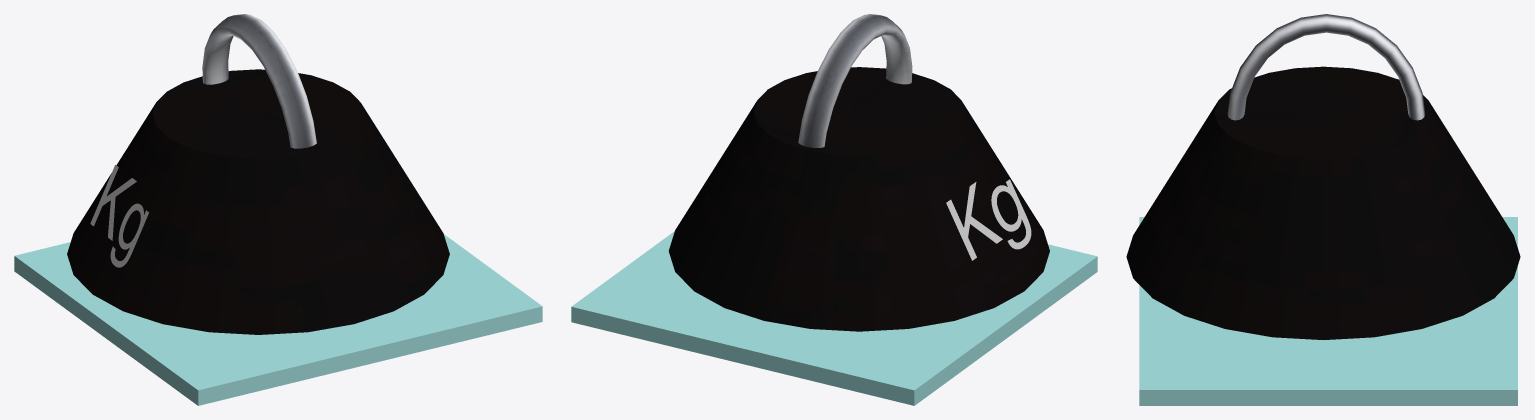
Rendered from kilo.DAE.
3 renders of one model, left to right at view 1: azimuth 30°, elevation 25°; view 2: azimuth 150°, elevation 25°; view 3: azimuth 270°, elevation 25°, orthographic. The views are drawn at different scales.
Visible parts, largest first — view 1: Cone001, Box001, Torus001, Text003; view 2: Cone001, Box001, Torus001, Text003; view 3: Cone001, Box001, Torus001.
Boxes of the visible parts, box(x1,y1,x2,y2) form: Cone001: box(67, 69, 449, 334); Box001: box(14, 234, 542, 405); Torus001: box(202, 14, 316, 148); Text003: box(90, 165, 148, 267); Cone001: box(668, 67, 1049, 331); Box001: box(571, 231, 1097, 405); Torus001: box(798, 14, 912, 147); Text003: box(946, 179, 1031, 260); Cone001: box(1126, 66, 1520, 339); Box001: box(1139, 217, 1517, 405); Torus001: box(1227, 14, 1425, 120).
Bounding box in the file's own units: 143 × 132 × 108.
Materials: 4 (2 with a texture image).
